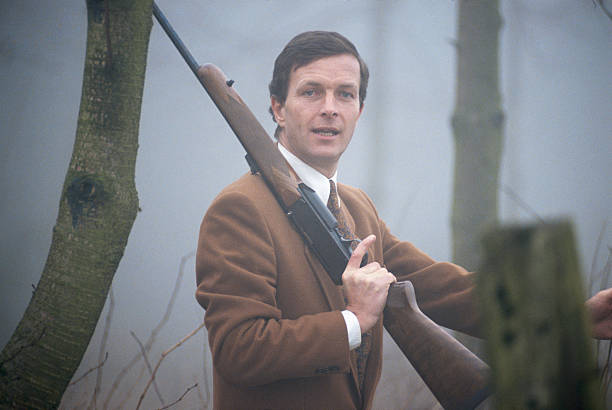shotgun: (193, 62, 495, 409)
